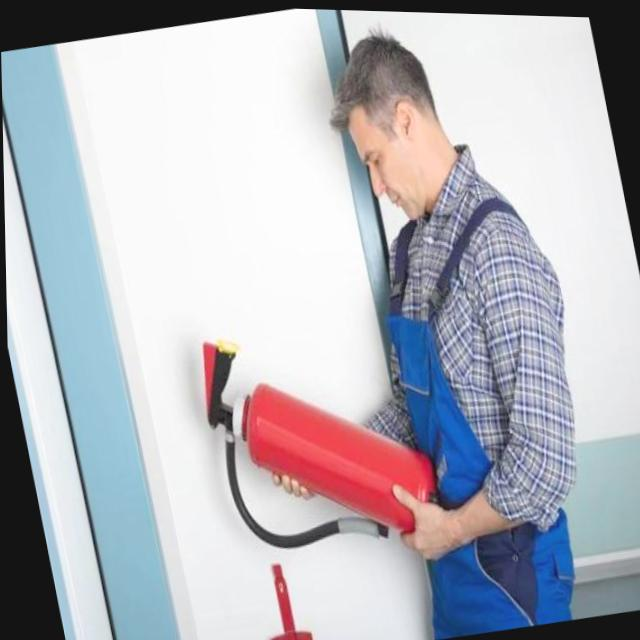FireExtinguisher: (183, 293, 450, 571)
